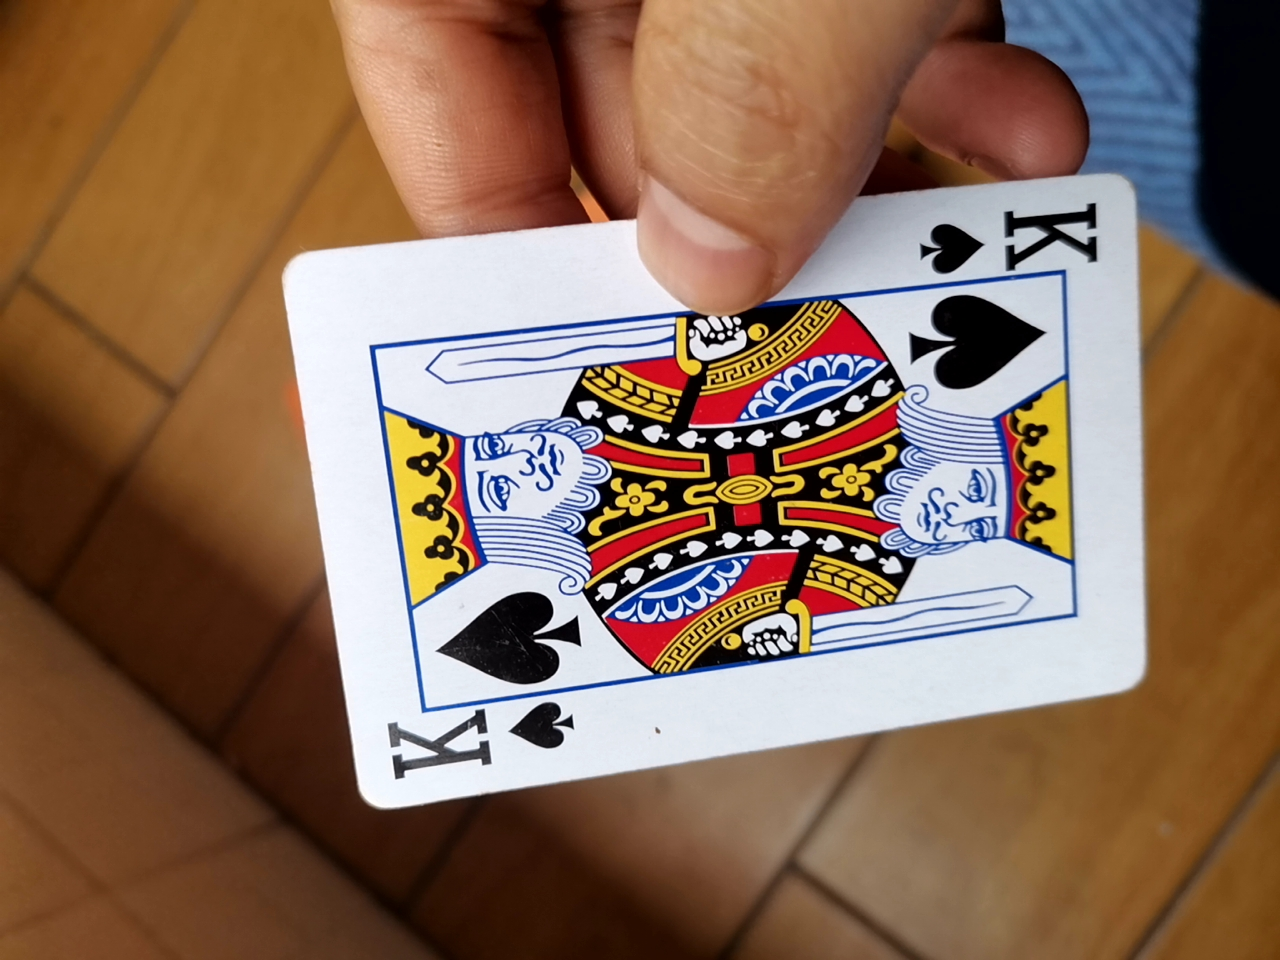ht k: (254, 166, 1135, 834)
